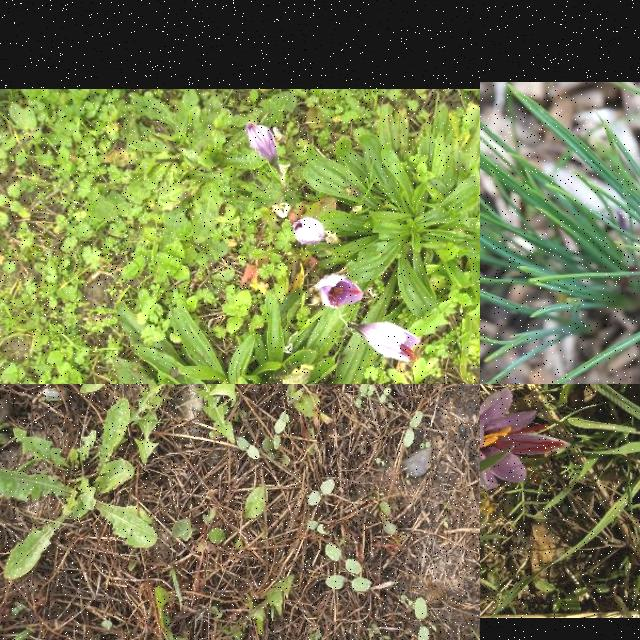flower: (480, 388, 571, 492), (356, 322, 420, 364), (317, 272, 365, 310), (245, 122, 279, 168), (292, 216, 326, 244)
